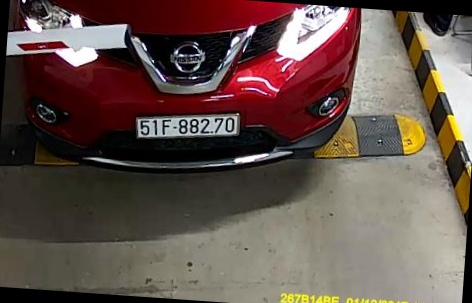plate: (121, 104, 251, 145)
